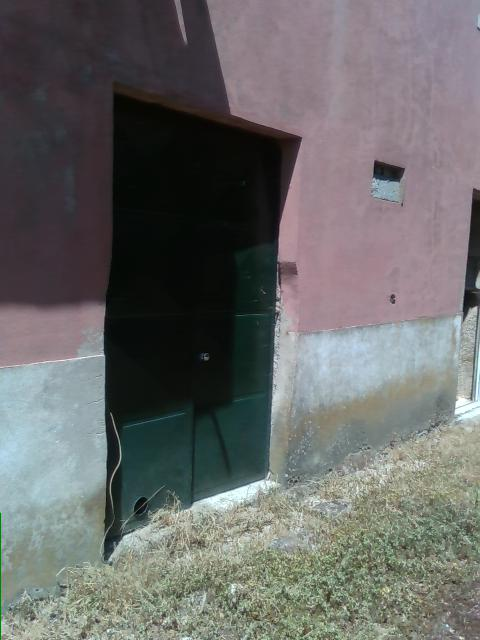door: (103, 95, 279, 549)
